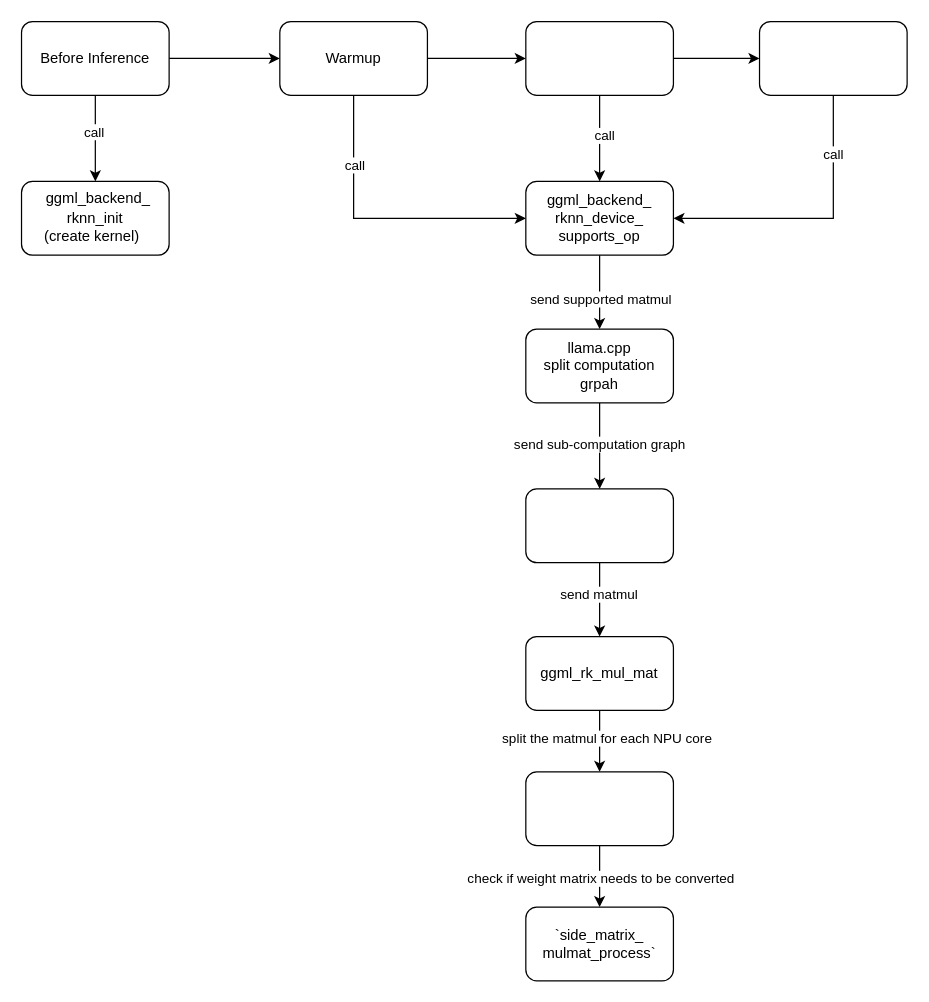
Image size: 929x1002. Some labels were removed from this diagram. Here are the shapes that lost their labels. From the top down, the centre of each, then its label:
At (599,57): "Prefill".
At (832,57): "Decoding".
At (599,525): "ggml_backend_rknn_ graph_compute".
At (599,808): "compute_submat_mul".
